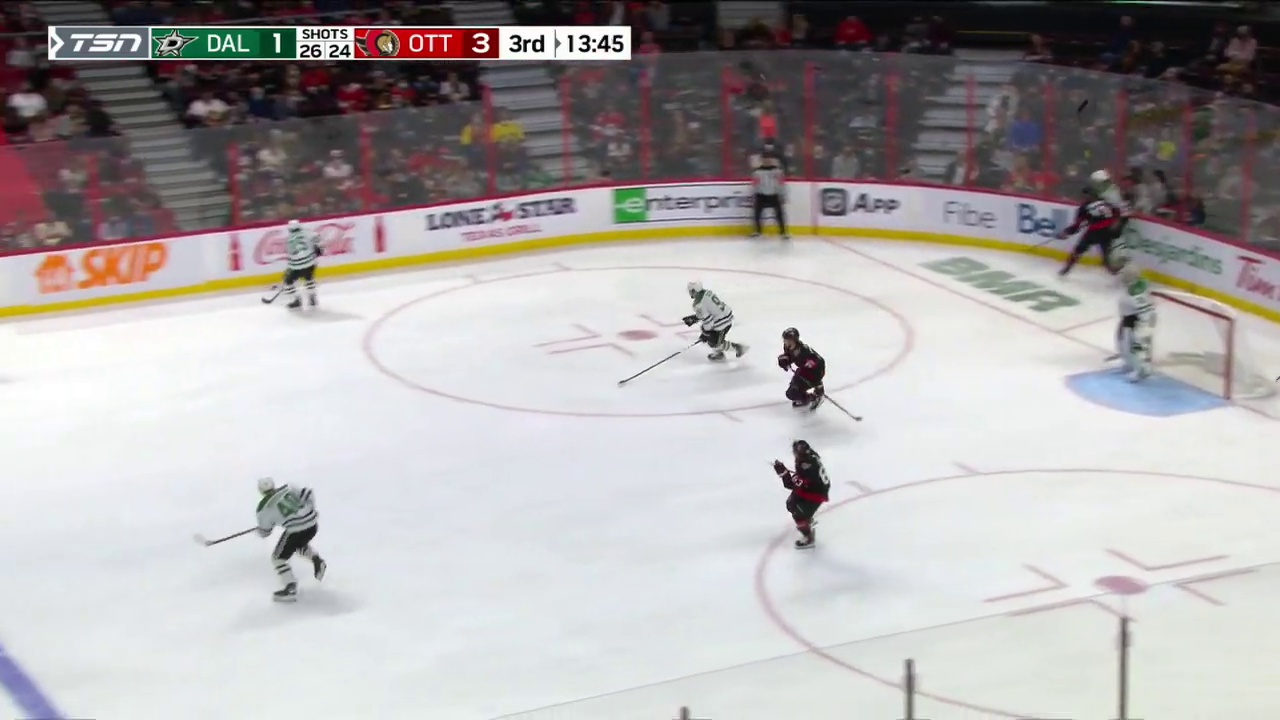goalie: (1115, 265, 1157, 382)
hockeyplayer: (256, 477, 327, 603), (773, 440, 831, 550), (682, 279, 749, 363), (1058, 188, 1119, 278), (776, 327, 827, 412), (283, 219, 326, 312)
referee: (750, 154, 789, 240)
